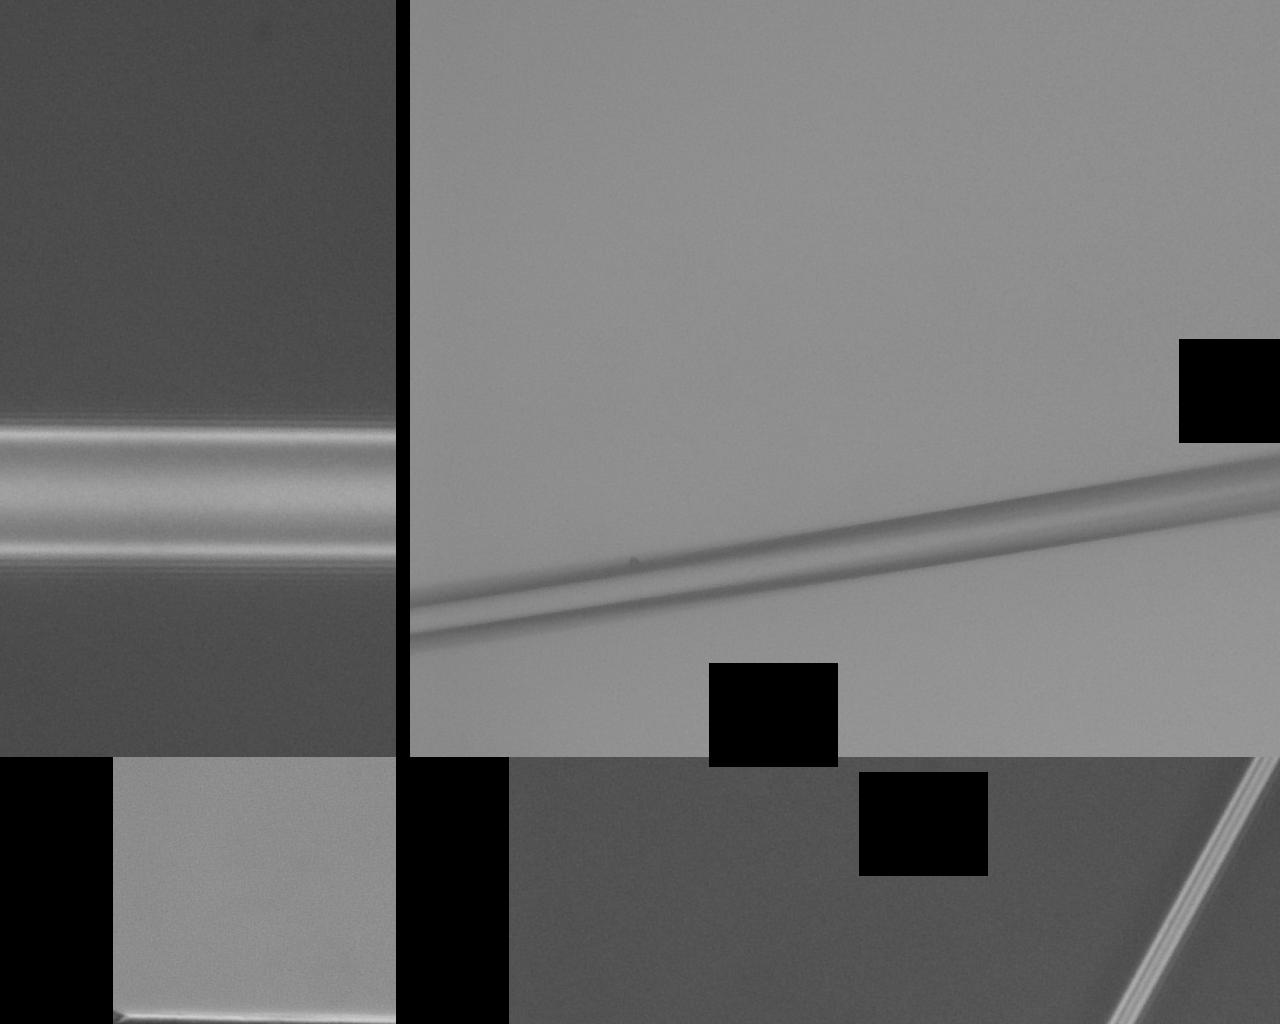fiber: (460, 327, 969, 1024), (129, 99, 460, 327), (159, 818, 460, 1024)
